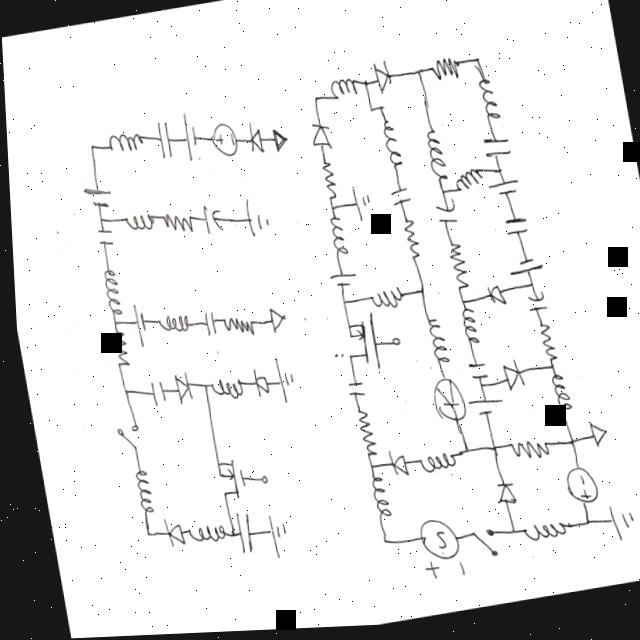capacitor: (194, 192, 228, 249), (224, 504, 253, 569), (494, 214, 531, 252), (147, 118, 173, 167), (426, 198, 460, 234), (192, 299, 217, 346), (382, 185, 416, 217), (477, 137, 511, 167), (460, 359, 489, 390), (143, 377, 166, 416), (518, 290, 546, 322), (336, 376, 364, 404), (89, 224, 117, 252)
diode: (364, 61, 397, 105), (151, 512, 183, 556), (483, 476, 517, 516), (165, 369, 194, 414), (380, 445, 409, 488), (238, 119, 265, 164), (480, 280, 509, 320), (491, 362, 521, 400), (304, 120, 333, 158), (243, 364, 270, 403)
ground: (232, 196, 273, 254), (594, 499, 634, 554), (573, 413, 609, 467), (253, 510, 285, 566), (265, 354, 294, 409), (345, 181, 376, 229), (261, 126, 291, 156), (261, 305, 287, 336)
inductor: (419, 127, 451, 188), (471, 73, 502, 134), (418, 316, 448, 377), (92, 266, 125, 321), (510, 521, 566, 553), (374, 119, 404, 174), (122, 468, 152, 520), (180, 516, 224, 551), (407, 452, 456, 483), (363, 282, 405, 317), (99, 131, 146, 162), (362, 475, 388, 530), (201, 378, 243, 412), (322, 73, 359, 111), (115, 209, 156, 242), (449, 168, 485, 204), (321, 217, 348, 262), (148, 312, 190, 340), (453, 308, 479, 351), (544, 376, 568, 421)
mosfet: (330, 311, 382, 380), (203, 449, 252, 508)
resistor: (499, 434, 548, 472), (346, 405, 375, 466), (97, 327, 132, 377), (442, 245, 471, 303), (423, 55, 466, 89), (212, 310, 256, 343), (312, 159, 341, 207), (394, 218, 420, 270), (155, 210, 196, 241), (531, 322, 556, 367)
source: (404, 512, 456, 574), (553, 466, 599, 519), (172, 106, 205, 169), (202, 117, 244, 166), (458, 394, 502, 433), (122, 299, 151, 356), (480, 176, 525, 211), (500, 253, 545, 284), (319, 266, 360, 297), (75, 181, 113, 214)
switch: (457, 514, 499, 572), (105, 418, 138, 457)
transistor: (417, 372, 465, 435)
